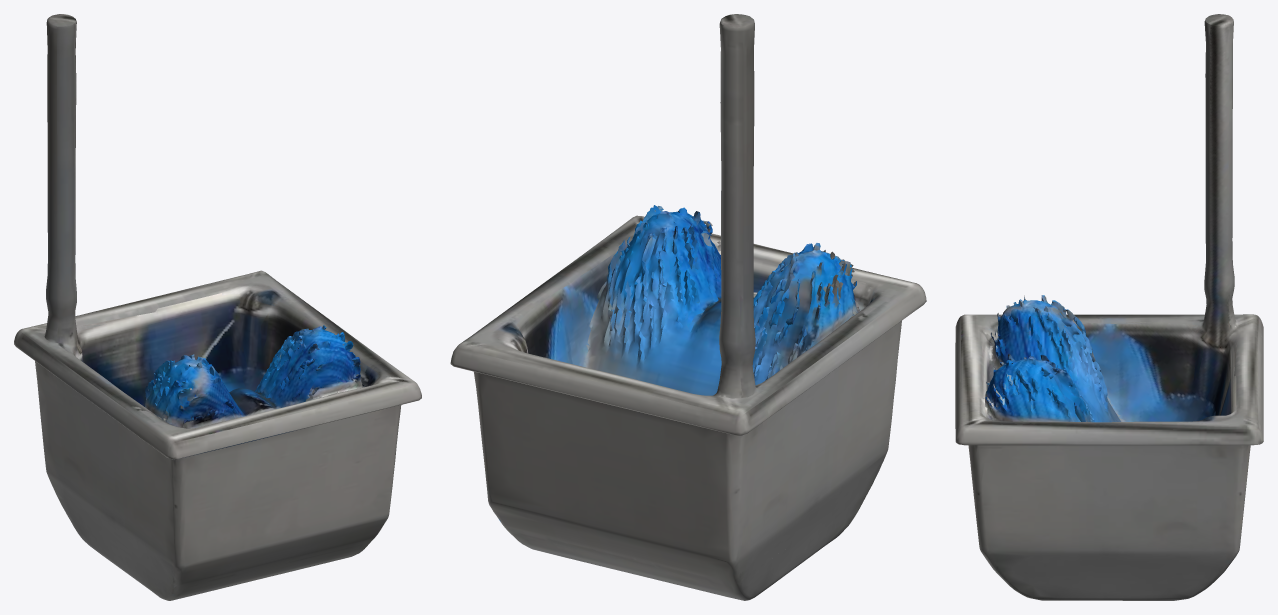
The model's file is boot-wash.glb.
3 renders of one model, left to right at view 1: azimuth 30°, elevation 25°; view 2: azimuth 150°, elevation 25°; view 3: azimuth 270°, elevation 25°, orthographic. The views are drawn at different scales.
Parts seen in each view (by area): view 1: cowninja-boot-wash; view 2: cowninja-boot-wash; view 3: cowninja-boot-wash.
Boxes of the visible parts, x1,y1,x2,y2 form: cowninja-boot-wash: (14, 14, 421, 600); cowninja-boot-wash: (450, 14, 926, 600); cowninja-boot-wash: (955, 14, 1263, 600).
Size of the model in its own units: 0.6195 by 1.2 by 0.6788.
Materials: 1 (1 with a texture image).
